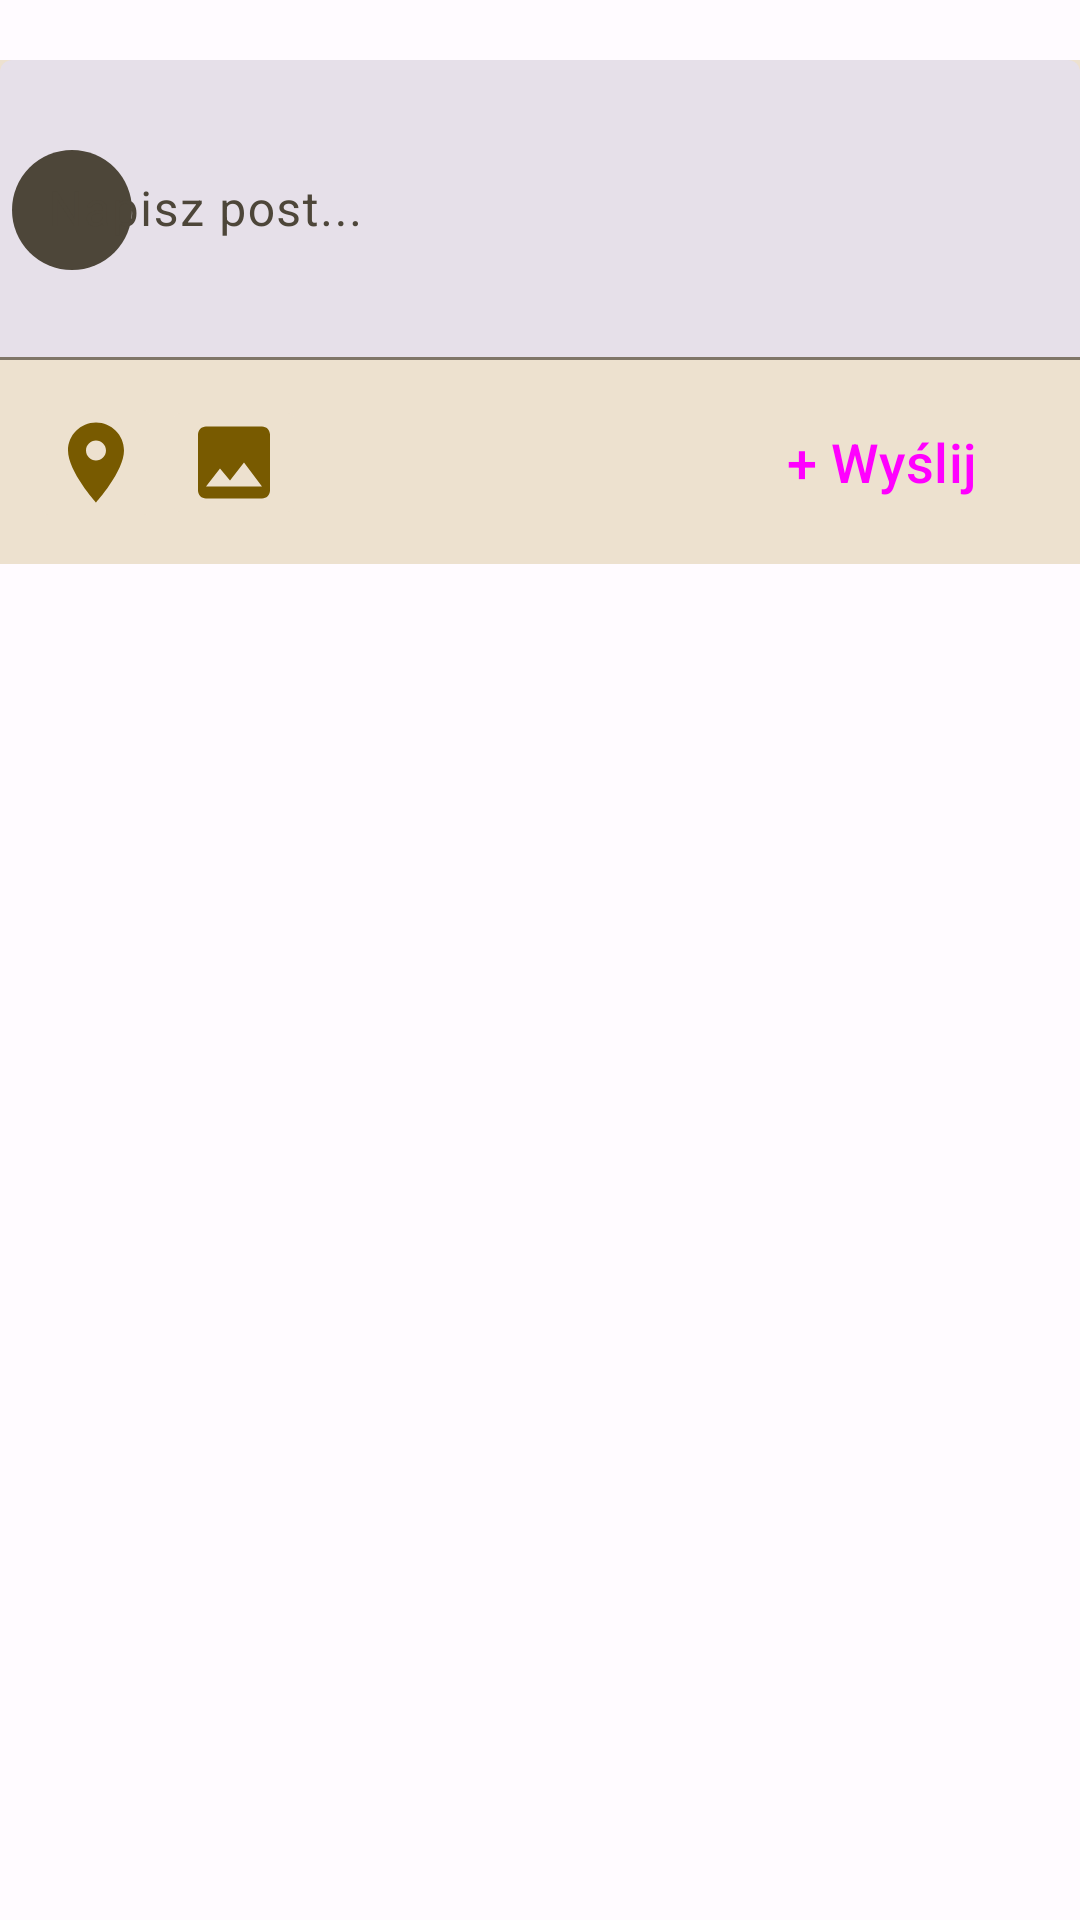

Where icons sit on this 1080 x 1920 app screen, as {"x1": x1, "y1": y1, "x2": x2, "y2": y2}:
localization: {"x1": 68, "y1": 422, "x2": 124, "y2": 503}
